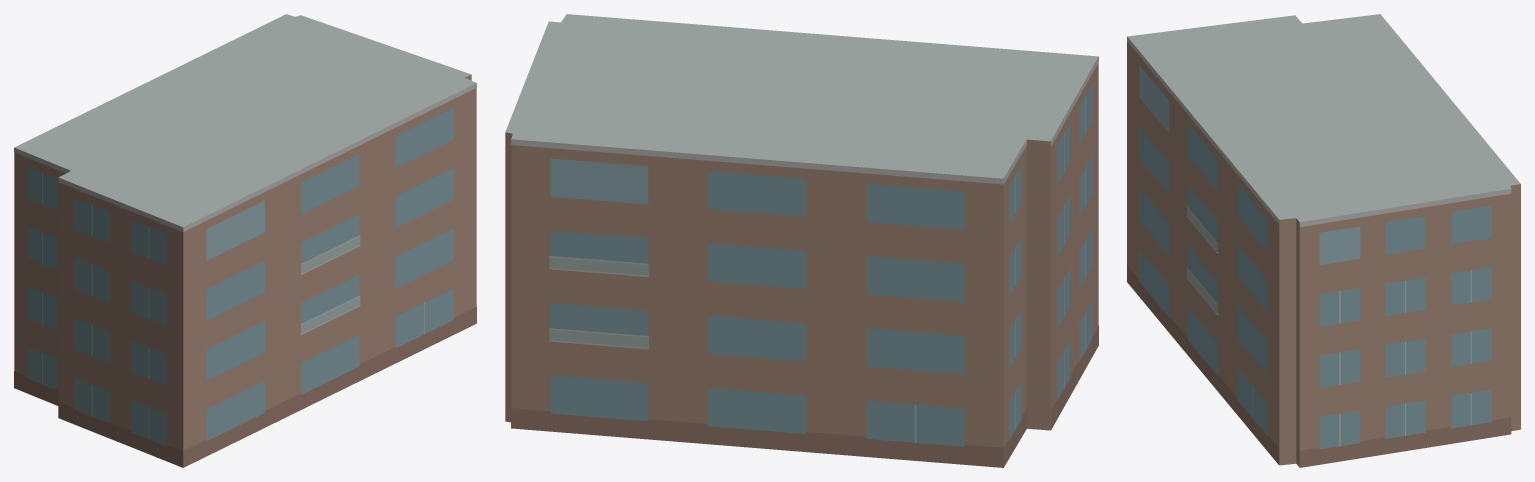
File: survey-upis-32586451.glb
The picture shows the model from 3 angles, left to right: view 1: azimuth 30°, elevation 25°; view 2: azimuth 150°, elevation 25°; view 3: azimuth 270°, elevation 25°; orthographic projection. The views are drawn at different scales.
Visible parts, largest first — view 1: survey-upis-32586451.tmp; view 2: survey-upis-32586451.tmp; view 3: survey-upis-32586451.tmp.
Boxes of the visible parts, <box> form: survey-upis-32586451.tmp: <box>14,14,476,467</box>; survey-upis-32586451.tmp: <box>505,14,1098,467</box>; survey-upis-32586451.tmp: <box>1127,14,1520,467</box>.
Bounding box in the file's own units: 22.19 × 12.2 × 17.73.
